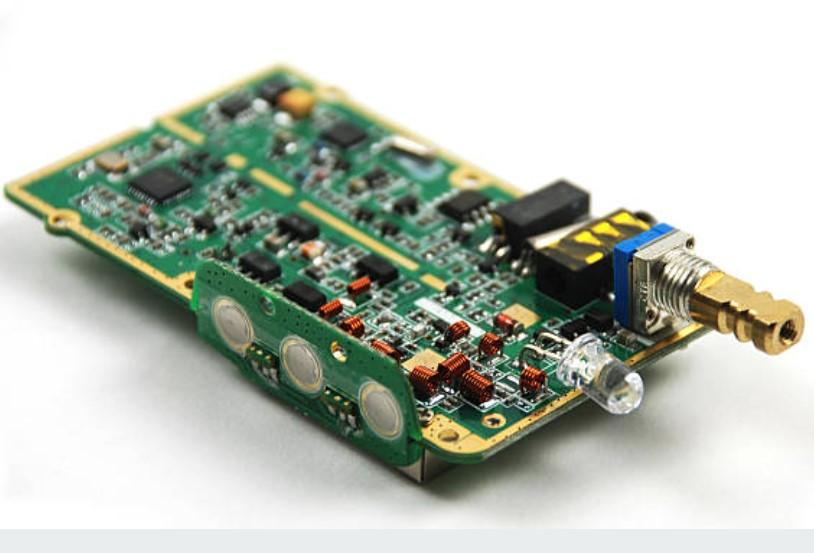Printed Circuit Board PCB: (5, 66, 805, 482)
